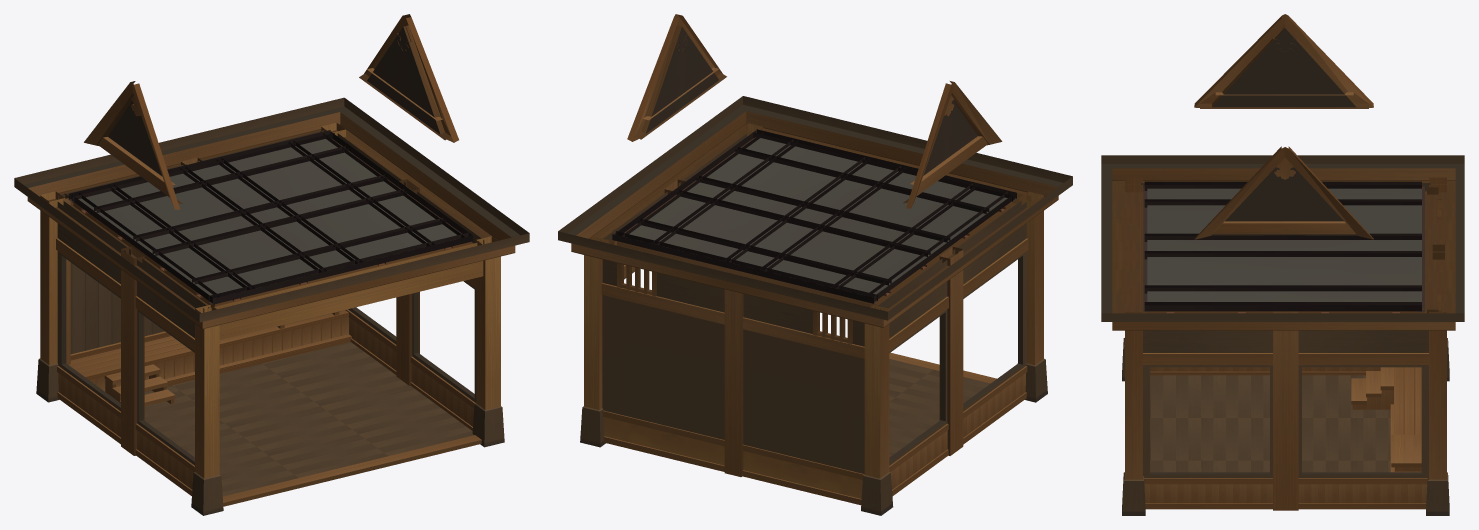
The model's file is SK_onsen.FBX.
3 renders of one model, left to right at view 1: azimuth 30°, elevation 25°; view 2: azimuth 150°, elevation 25°; view 3: azimuth 270°, elevation 25°, orthographic.
Parts seen in each view (by area): view 1: SK_onsen_wall, SK_onsen_ceiling; view 2: SK_onsen_wall, SK_onsen_ceiling; view 3: SK_onsen_wall, SK_onsen_ceiling.
Part boxes in pixels (x1=…): SK_onsen_wall: x1=14, y1=14, x2=529, y2=515; SK_onsen_ceiling: x1=68, y1=130, x2=473, y2=304; SK_onsen_wall: x1=558, y1=14, x2=1072, y2=515; SK_onsen_ceiling: x1=612, y1=129, x2=1016, y2=303; SK_onsen_wall: x1=1101, y1=14, x2=1464, y2=515; SK_onsen_ceiling: x1=1143, y1=181, x2=1424, y2=313.
Size of the model in its own units: 572 by 613 by 556.
